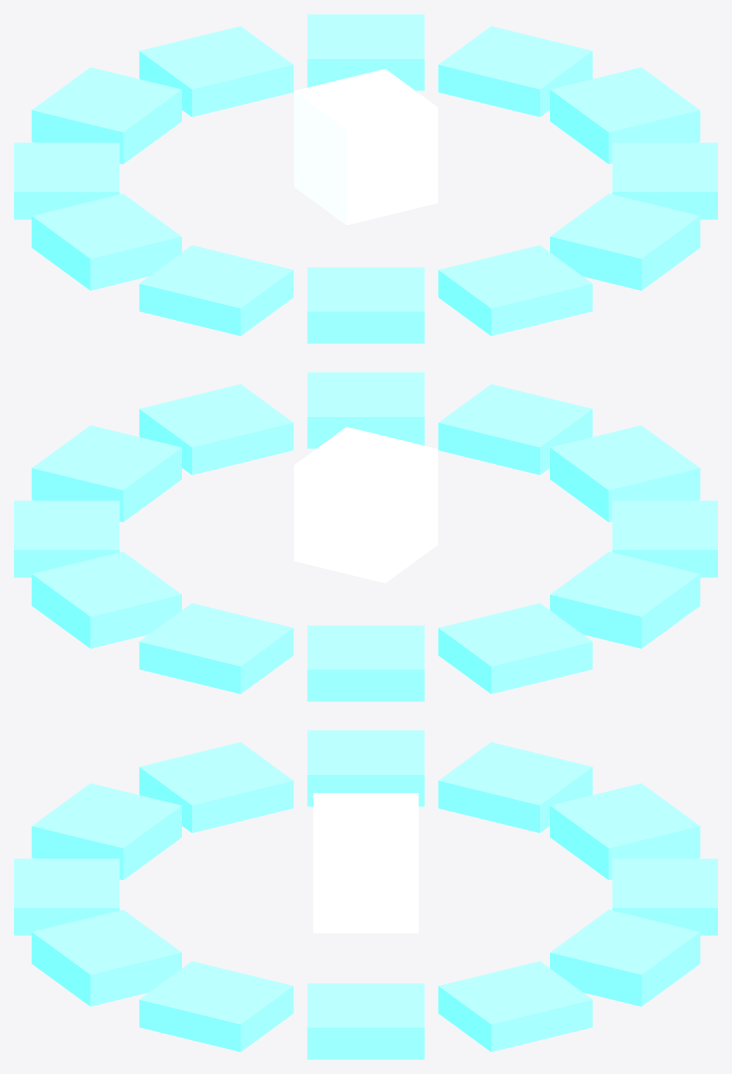
Rendered from fx_pet_mote_burst.glb.
3 views of the same model, one above another, from view 1: azimuth 30°, elevation 25°; view 2: azimuth 150°, elevation 25°; view 3: azimuth 270°, elevation 25° (orthographic).
Visible parts, largest first — view 1: burst_cube, burst_tile_7, burst_tile_11, burst_tile_8, burst_tile_10, burst_tile_1, burst_tile_5, burst_tile_2, burst_tile_4, burst_tile_9, burst_tile_3, burst_tile_6 (+1 smaller); view 2: burst_cube, burst_tile_3, burst_tile_7, burst_tile_4, burst_tile_6, burst_tile_1, burst_tile_9, burst_tile_10, burst_tile_12, burst_tile_5, burst_tile_11, burst_tile_2 (+1 smaller); view 3: burst_cube, burst_tile_3, burst_tile_11, burst_tile_2, burst_tile_12, burst_tile_5, burst_tile_9, burst_tile_6, burst_tile_8, burst_tile_1, burst_tile_7, burst_tile_4 (+1 smaller).
Part boxes in pixels (bbox=[...]): burst_cube: bbox=[294, 69, 437, 225]; burst_tile_7: bbox=[31, 193, 181, 290]; burst_tile_11: bbox=[550, 193, 700, 290]; burst_tile_8: bbox=[139, 245, 293, 335]; burst_tile_10: bbox=[438, 245, 592, 335]; burst_tile_1: bbox=[550, 67, 700, 164]; burst_tile_5: bbox=[31, 67, 181, 164]; burst_tile_2: bbox=[438, 26, 592, 116]; burst_tile_4: bbox=[139, 26, 293, 116]; burst_tile_9: bbox=[307, 267, 424, 343]; burst_tile_3: bbox=[307, 14, 424, 90]; burst_tile_6: bbox=[14, 142, 119, 219]; burst_cube: bbox=[294, 427, 437, 583]; burst_tile_3: bbox=[31, 551, 181, 648]; burst_tile_7: bbox=[550, 551, 700, 648]; burst_tile_4: bbox=[139, 603, 293, 693]; burst_tile_6: bbox=[438, 603, 592, 693]; burst_tile_1: bbox=[31, 425, 181, 522]; burst_tile_9: bbox=[550, 425, 700, 522]; burst_tile_10: bbox=[438, 384, 592, 474]; burst_tile_12: bbox=[139, 384, 293, 474]; burst_tile_5: bbox=[307, 625, 424, 701]; burst_tile_11: bbox=[307, 372, 424, 448]; burst_tile_2: bbox=[14, 500, 119, 577]; burst_cube: bbox=[313, 793, 418, 933]; burst_tile_3: bbox=[550, 909, 700, 1006]; burst_tile_11: bbox=[31, 909, 181, 1006]; burst_tile_2: bbox=[438, 961, 592, 1051]; burst_tile_12: bbox=[139, 961, 293, 1051]; burst_tile_5: bbox=[550, 783, 700, 880]; burst_tile_9: bbox=[31, 783, 181, 880]; burst_tile_6: bbox=[438, 742, 592, 832]; burst_tile_8: bbox=[139, 742, 293, 832]; burst_tile_1: bbox=[307, 983, 424, 1059]; burst_tile_7: bbox=[307, 730, 424, 806]; burst_tile_4: bbox=[612, 858, 717, 935].
Bounding box in the file's own units: 6 × 0.9 × 6.
